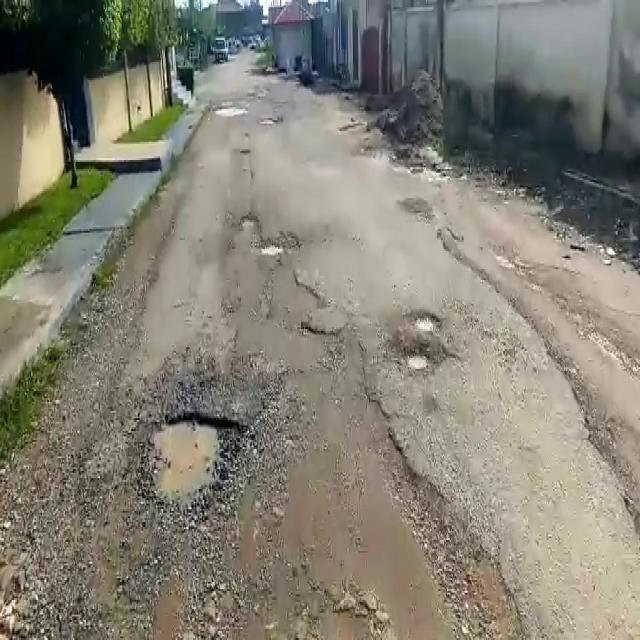Pothole: (147, 416, 241, 524), (414, 312, 439, 336), (407, 352, 430, 371), (239, 213, 260, 230), (260, 243, 282, 257)
